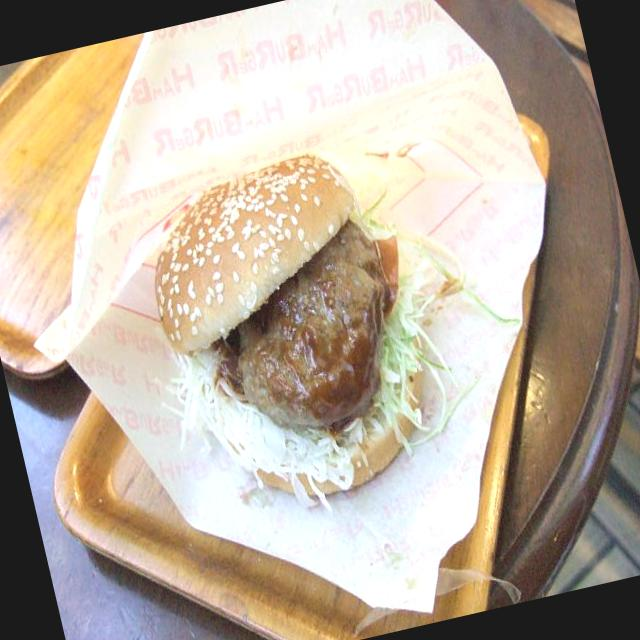Hamburger: (124, 125, 482, 530)
